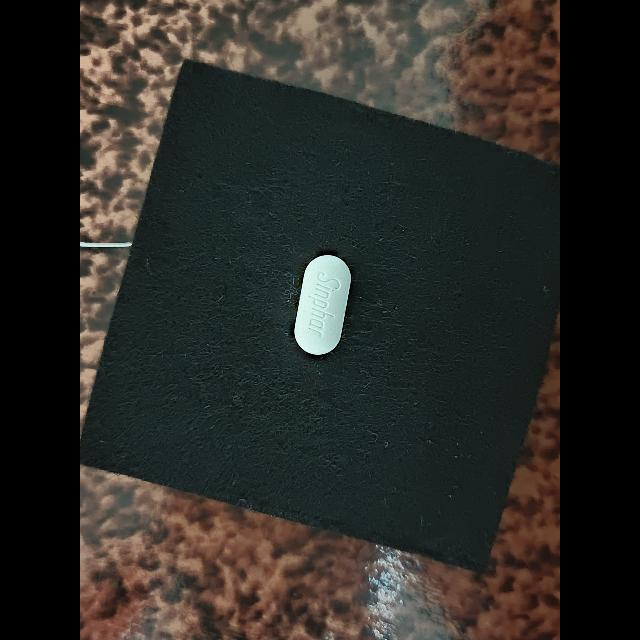Intact Pill: (294, 255, 351, 355)
